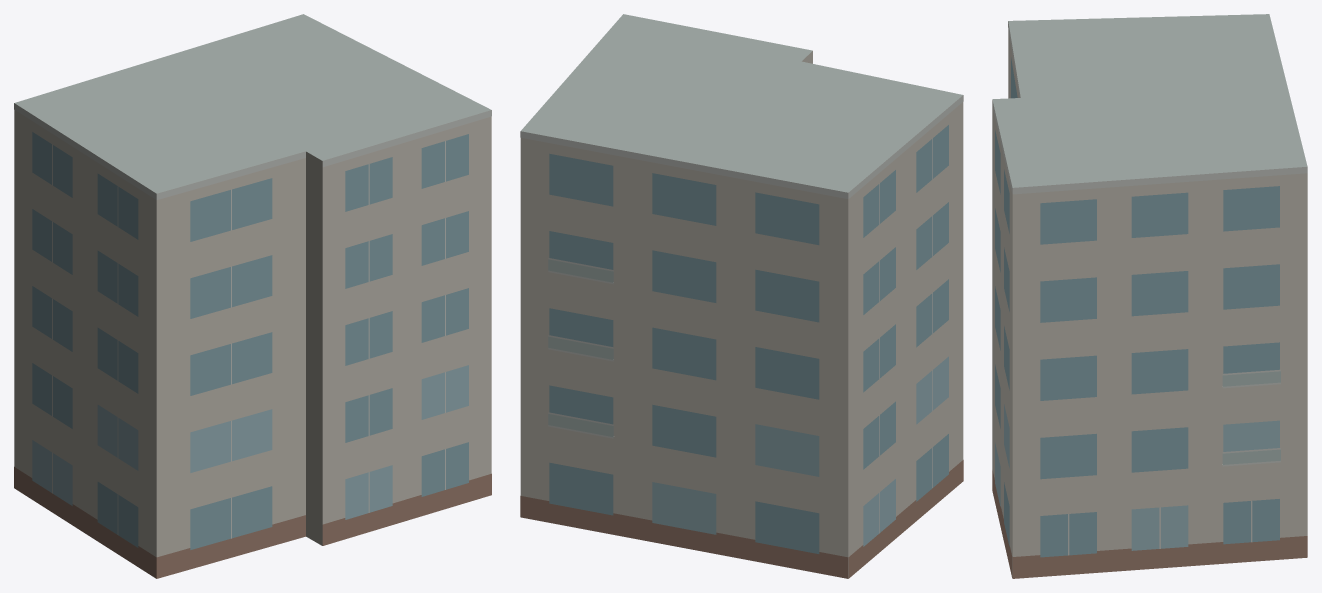
Rendered from survey-upis-32680220.glb.
The picture shows the model from 3 angles, left to right: view 1: azimuth 30°, elevation 25°; view 2: azimuth 150°, elevation 25°; view 3: azimuth 270°, elevation 25°; orthographic projection.
Parts seen in each view (by area): view 1: survey-upis-32680220.tmp; view 2: survey-upis-32680220.tmp; view 3: survey-upis-32680220.tmp.
Part boxes in pixels (<box>): survey-upis-32680220.tmp: <box>14,14,491,578</box>; survey-upis-32680220.tmp: <box>520,14,963,578</box>; survey-upis-32680220.tmp: <box>992,14,1307,578</box>.
Size of the model in its own units: 13.84 by 14.5 by 10.61.
